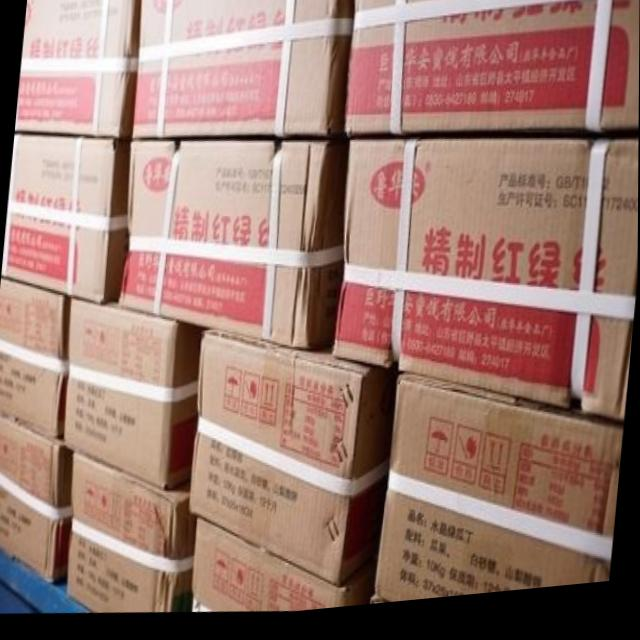box: (331, 149, 639, 433), (372, 379, 623, 610), (188, 332, 400, 590), (116, 140, 349, 357), (343, 0, 640, 148), (131, 0, 356, 144), (63, 296, 204, 494), (1, 135, 131, 306), (67, 452, 198, 615), (14, 0, 140, 140), (192, 521, 375, 616), (0, 413, 73, 585), (0, 278, 72, 440), (594, 433, 623, 595)
